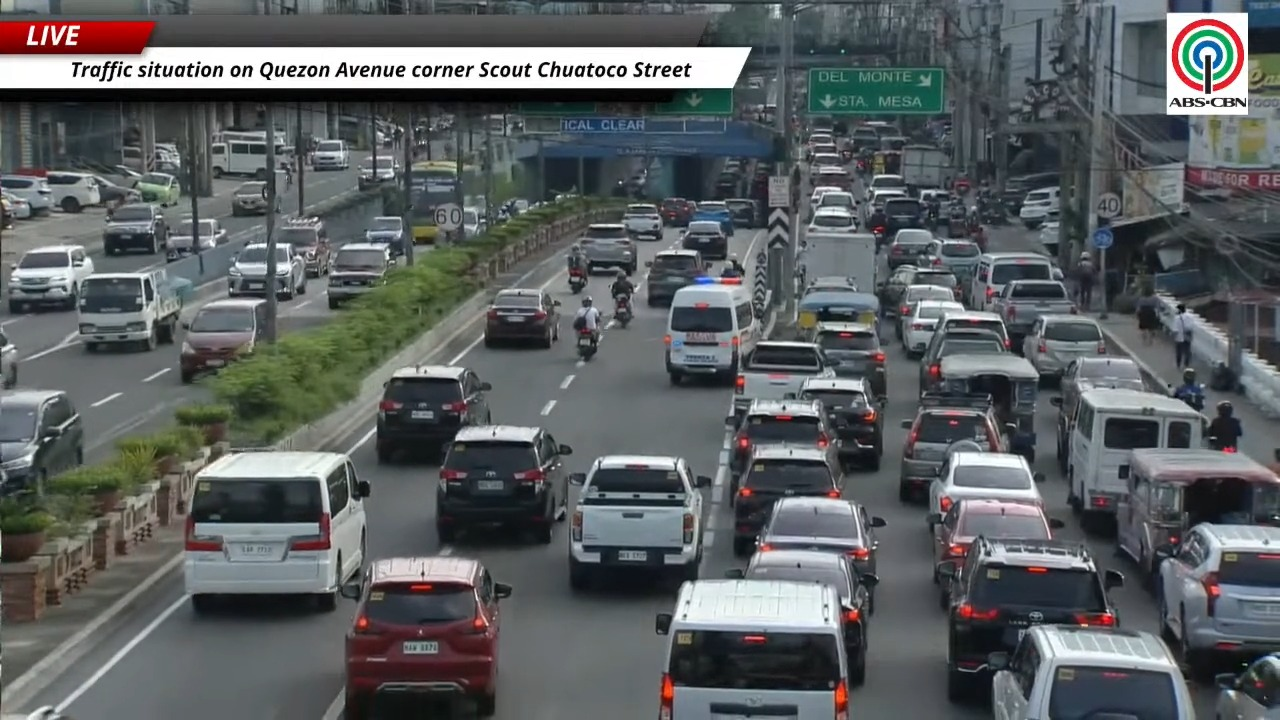bus: (410, 160, 460, 243), (210, 139, 267, 179), (210, 129, 266, 143)
car: (183, 451, 369, 614), (939, 538, 1123, 701), (341, 555, 511, 719), (725, 549, 878, 684), (988, 625, 1195, 719), (1154, 523, 1279, 678), (435, 425, 571, 544), (729, 444, 841, 556), (899, 394, 1006, 502), (375, 365, 491, 462), (931, 499, 1063, 583), (1053, 356, 1146, 472), (726, 399, 837, 493), (756, 497, 885, 573), (927, 451, 1044, 530), (0, 389, 82, 492), (797, 377, 886, 469), (179, 298, 267, 383), (7, 245, 93, 313), (812, 322, 887, 397), (918, 329, 1007, 391), (1023, 314, 1106, 379), (327, 242, 395, 309), (483, 288, 559, 347), (1060, 355, 1146, 407), (227, 243, 306, 299), (1215, 652, 1279, 719), (876, 264, 958, 316), (895, 282, 958, 339), (900, 299, 962, 356), (103, 202, 168, 256), (646, 249, 706, 306), (275, 218, 331, 277), (577, 224, 637, 274), (936, 310, 1011, 349), (166, 217, 228, 261), (44, 170, 102, 212), (875, 262, 918, 316), (919, 239, 981, 276), (0, 175, 53, 215), (887, 228, 934, 269), (681, 220, 727, 259), (912, 266, 962, 300), (134, 172, 180, 206), (365, 216, 404, 256), (691, 200, 734, 236), (883, 196, 923, 233), (622, 204, 663, 240), (90, 175, 141, 203), (358, 155, 400, 189), (807, 207, 858, 233), (231, 182, 269, 216), (809, 145, 842, 184), (311, 139, 349, 170), (725, 198, 763, 228), (812, 191, 857, 216), (864, 189, 907, 214), (803, 276, 858, 294), (0, 191, 31, 222), (660, 197, 693, 226), (813, 165, 851, 189), (810, 186, 844, 211), (463, 206, 487, 239)
motorcycle: (1171, 385, 1205, 411), (576, 328, 596, 360), (614, 295, 632, 327), (979, 203, 1006, 224), (1207, 436, 1238, 453), (568, 268, 586, 293), (872, 226, 886, 251), (924, 207, 938, 231), (855, 159, 867, 175)
truck: (569, 456, 711, 589), (77, 269, 191, 351), (733, 341, 835, 419), (988, 280, 1076, 346), (796, 231, 878, 291), (900, 144, 950, 190)
